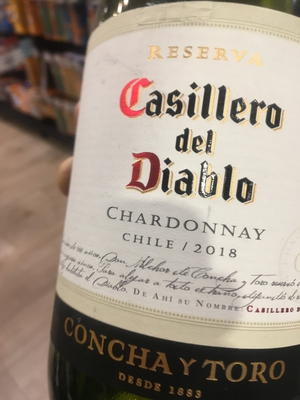casillero del diablo chardonnay: (50, 9, 296, 400)
